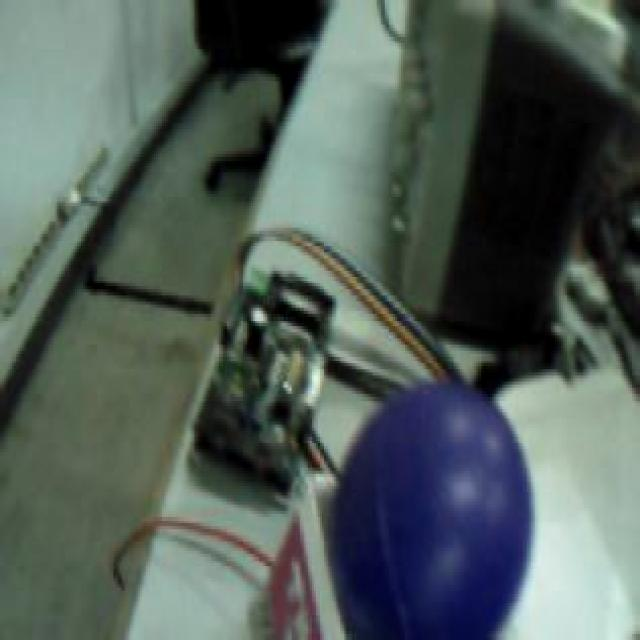BallPurple: (330, 381, 532, 640)
